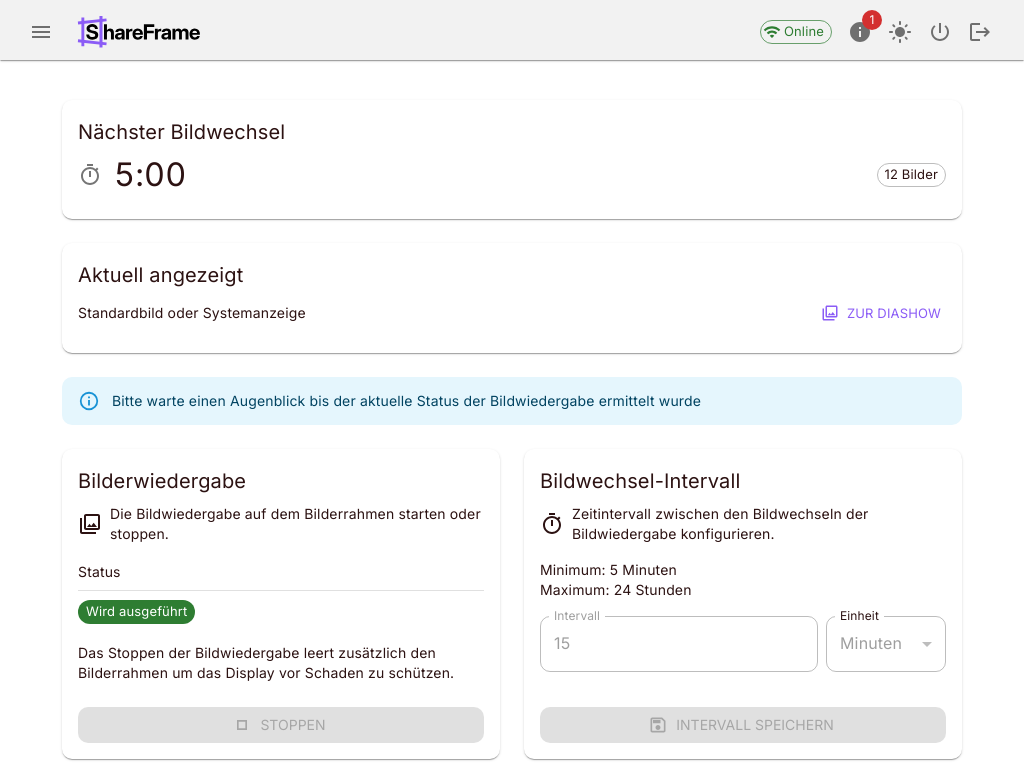
notifications › announces a newer version
Click the button named "Benachrichtigungen": (860, 32) [840, 12, 880, 52]
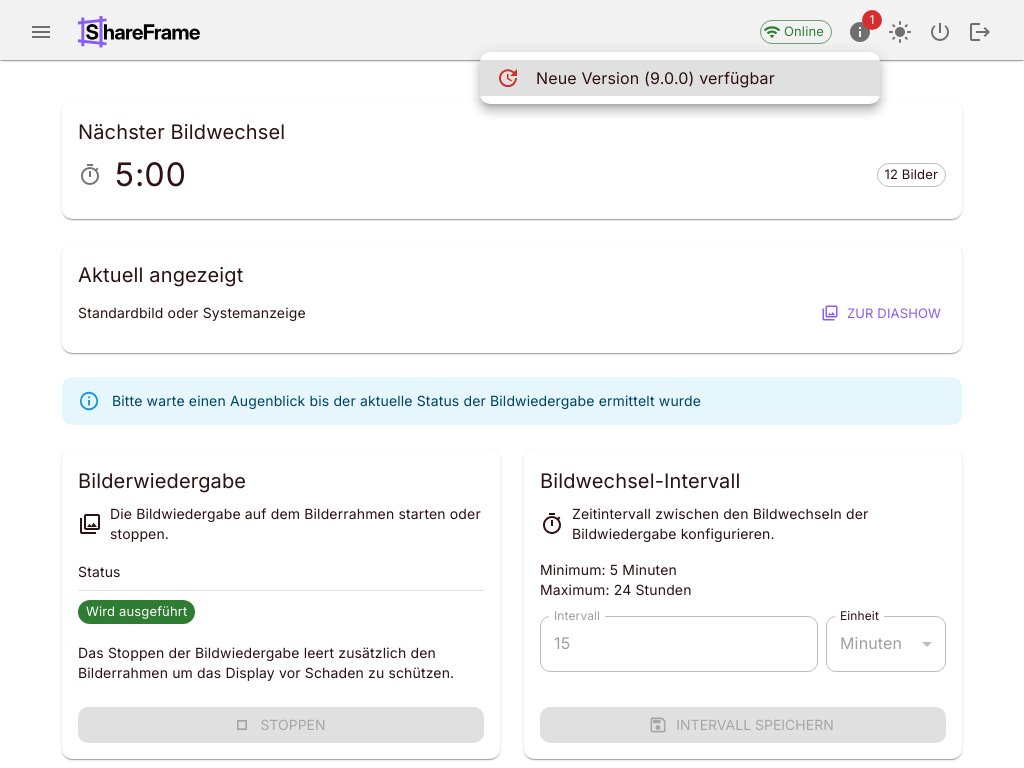
Check: the text "Neue Version (9.0.0) verfügbar" is shown, box [536, 66, 775, 90]
